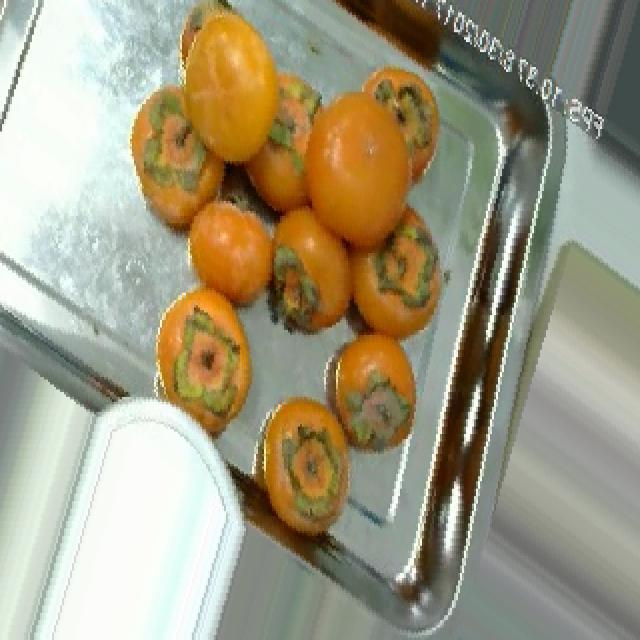Fruit: (284, 45, 474, 253), (242, 377, 378, 563), (140, 270, 272, 457), (116, 62, 244, 253)
